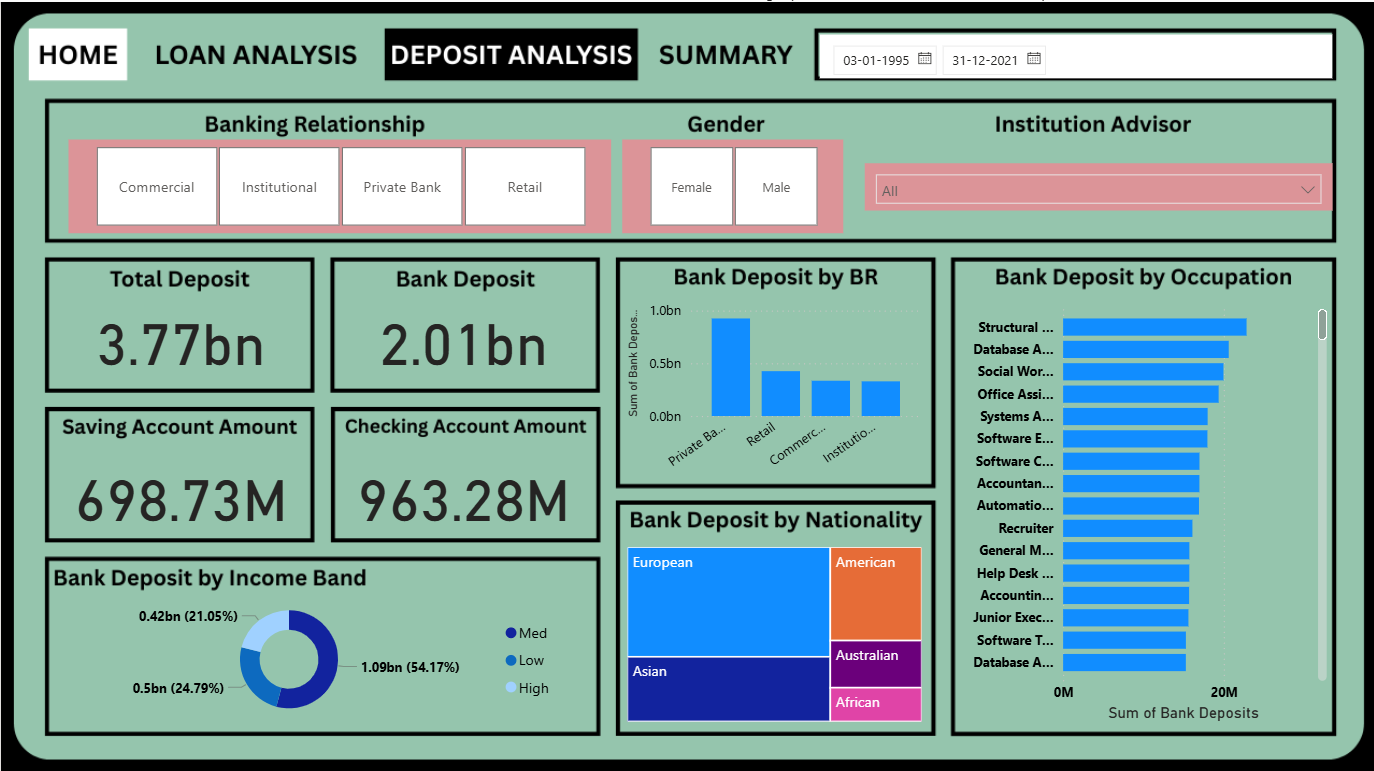

Layout of this report page (visuals, bound fields, positions):
{"tool":"powerbi","page":{"name":"Deposit Analysis","canvas":[1280,720],"ordinal":2},"visuals":[{"type":"slicer","fields":{"Values":["Banking.Joined Bank"]},"box":[761.6,30.2,477,41.2],"z":0},{"type":"card","fields":{"Values":["Banking.Total Deposit"]},"box":[63.1,273.1,209.9,76.8],"z":1000},{"type":"card","fields":{"Values":["Sum(Banking.Bank Deposits)"]},"box":[325.2,273.1,209.9,76.8],"z":2000},{"type":"card","fields":{"Values":["Sum(Banking.Saving Accounts)"]},"box":[63.1,418.5,209.9,76.8],"z":3000},{"type":"card","fields":{"Values":["Sum(Banking.Checking Accounts)"]},"box":[325.2,418.5,209.9,76.8],"z":4000},{"type":"donutChart","fields":{"Category":["Banking.Income Band"],"Y":["Sum(Banking.Bank Deposits)"]},"box":[62.8,548.8,461.6,125.6],"z":5000},{"type":"columnChart","fields":{"Category":["Banking.BRId"],"Y":["Sum(Banking.Bank Deposits)"]},"box":[577.9,273.3,283.7,172.1],"z":6000},{"type":"treemap","fields":{"Group":["Banking.Nationality"],"Values":["Sum(Banking.Bank Deposits)"]},"box":[577.9,502.3,283.7,172.1],"z":7000},{"type":"barChart","fields":{"Category":["Banking.Occupation"],"Y":["Sum(Banking.Bank Deposits)"]},"box":[887.2,273.3,351.2,401.2],"z":8000},{"type":"slicer","fields":{"Values":["Banking.BRId"]},"box":[62.8,127.9,504.7,87.2],"z":9000},{"type":"slicer","fields":{"Values":["Banking.GenderId"]},"box":[577.9,127.9,205.8,87.2],"z":10000},{"type":"slicer","fields":{"Values":["Banking.IAId"]},"box":[803.5,150,434.9,44.2],"z":11000},{"type":"actionButton","box":[24.4,25.6,93,45.3],"z":12000},{"type":"actionButton","box":[139.5,27.9,196.5,45.3],"z":13000},{"type":"actionButton","box":[607,27.9,132.6,45.3],"z":14000}]}

Visuals, with their boxes in screenshot pixels (x1, y1, x2, y2), scaled from the page's 1280x720 canvas onto the 1374x771 screenshot:
slicer - Banking.Joined Bank: locate(818, 32, 1330, 76)
card - Banking.Total Deposit: locate(68, 292, 293, 375)
card - Sum(Banking.Bank Deposits): locate(349, 292, 574, 375)
card - Sum(Banking.Saving Accounts): locate(68, 448, 293, 530)
card - Sum(Banking.Checking Accounts): locate(349, 448, 574, 530)
donutChart - Banking.Income Band x Sum(Banking.Bank Deposits): locate(67, 588, 563, 722)
columnChart - Banking.BRId x Sum(Banking.Bank Deposits): locate(620, 293, 925, 477)
treemap - Banking.Nationality x Sum(Banking.Bank Deposits): locate(620, 538, 925, 722)
barChart - Banking.Occupation x Sum(Banking.Bank Deposits): locate(952, 293, 1329, 722)
slicer - Banking.BRId: locate(67, 137, 609, 230)
slicer - Banking.GenderId: locate(620, 137, 841, 230)
slicer - Banking.IAId: locate(863, 161, 1329, 208)
actionButton: locate(26, 27, 126, 76)
actionButton: locate(150, 30, 361, 78)
actionButton: locate(652, 30, 794, 78)
